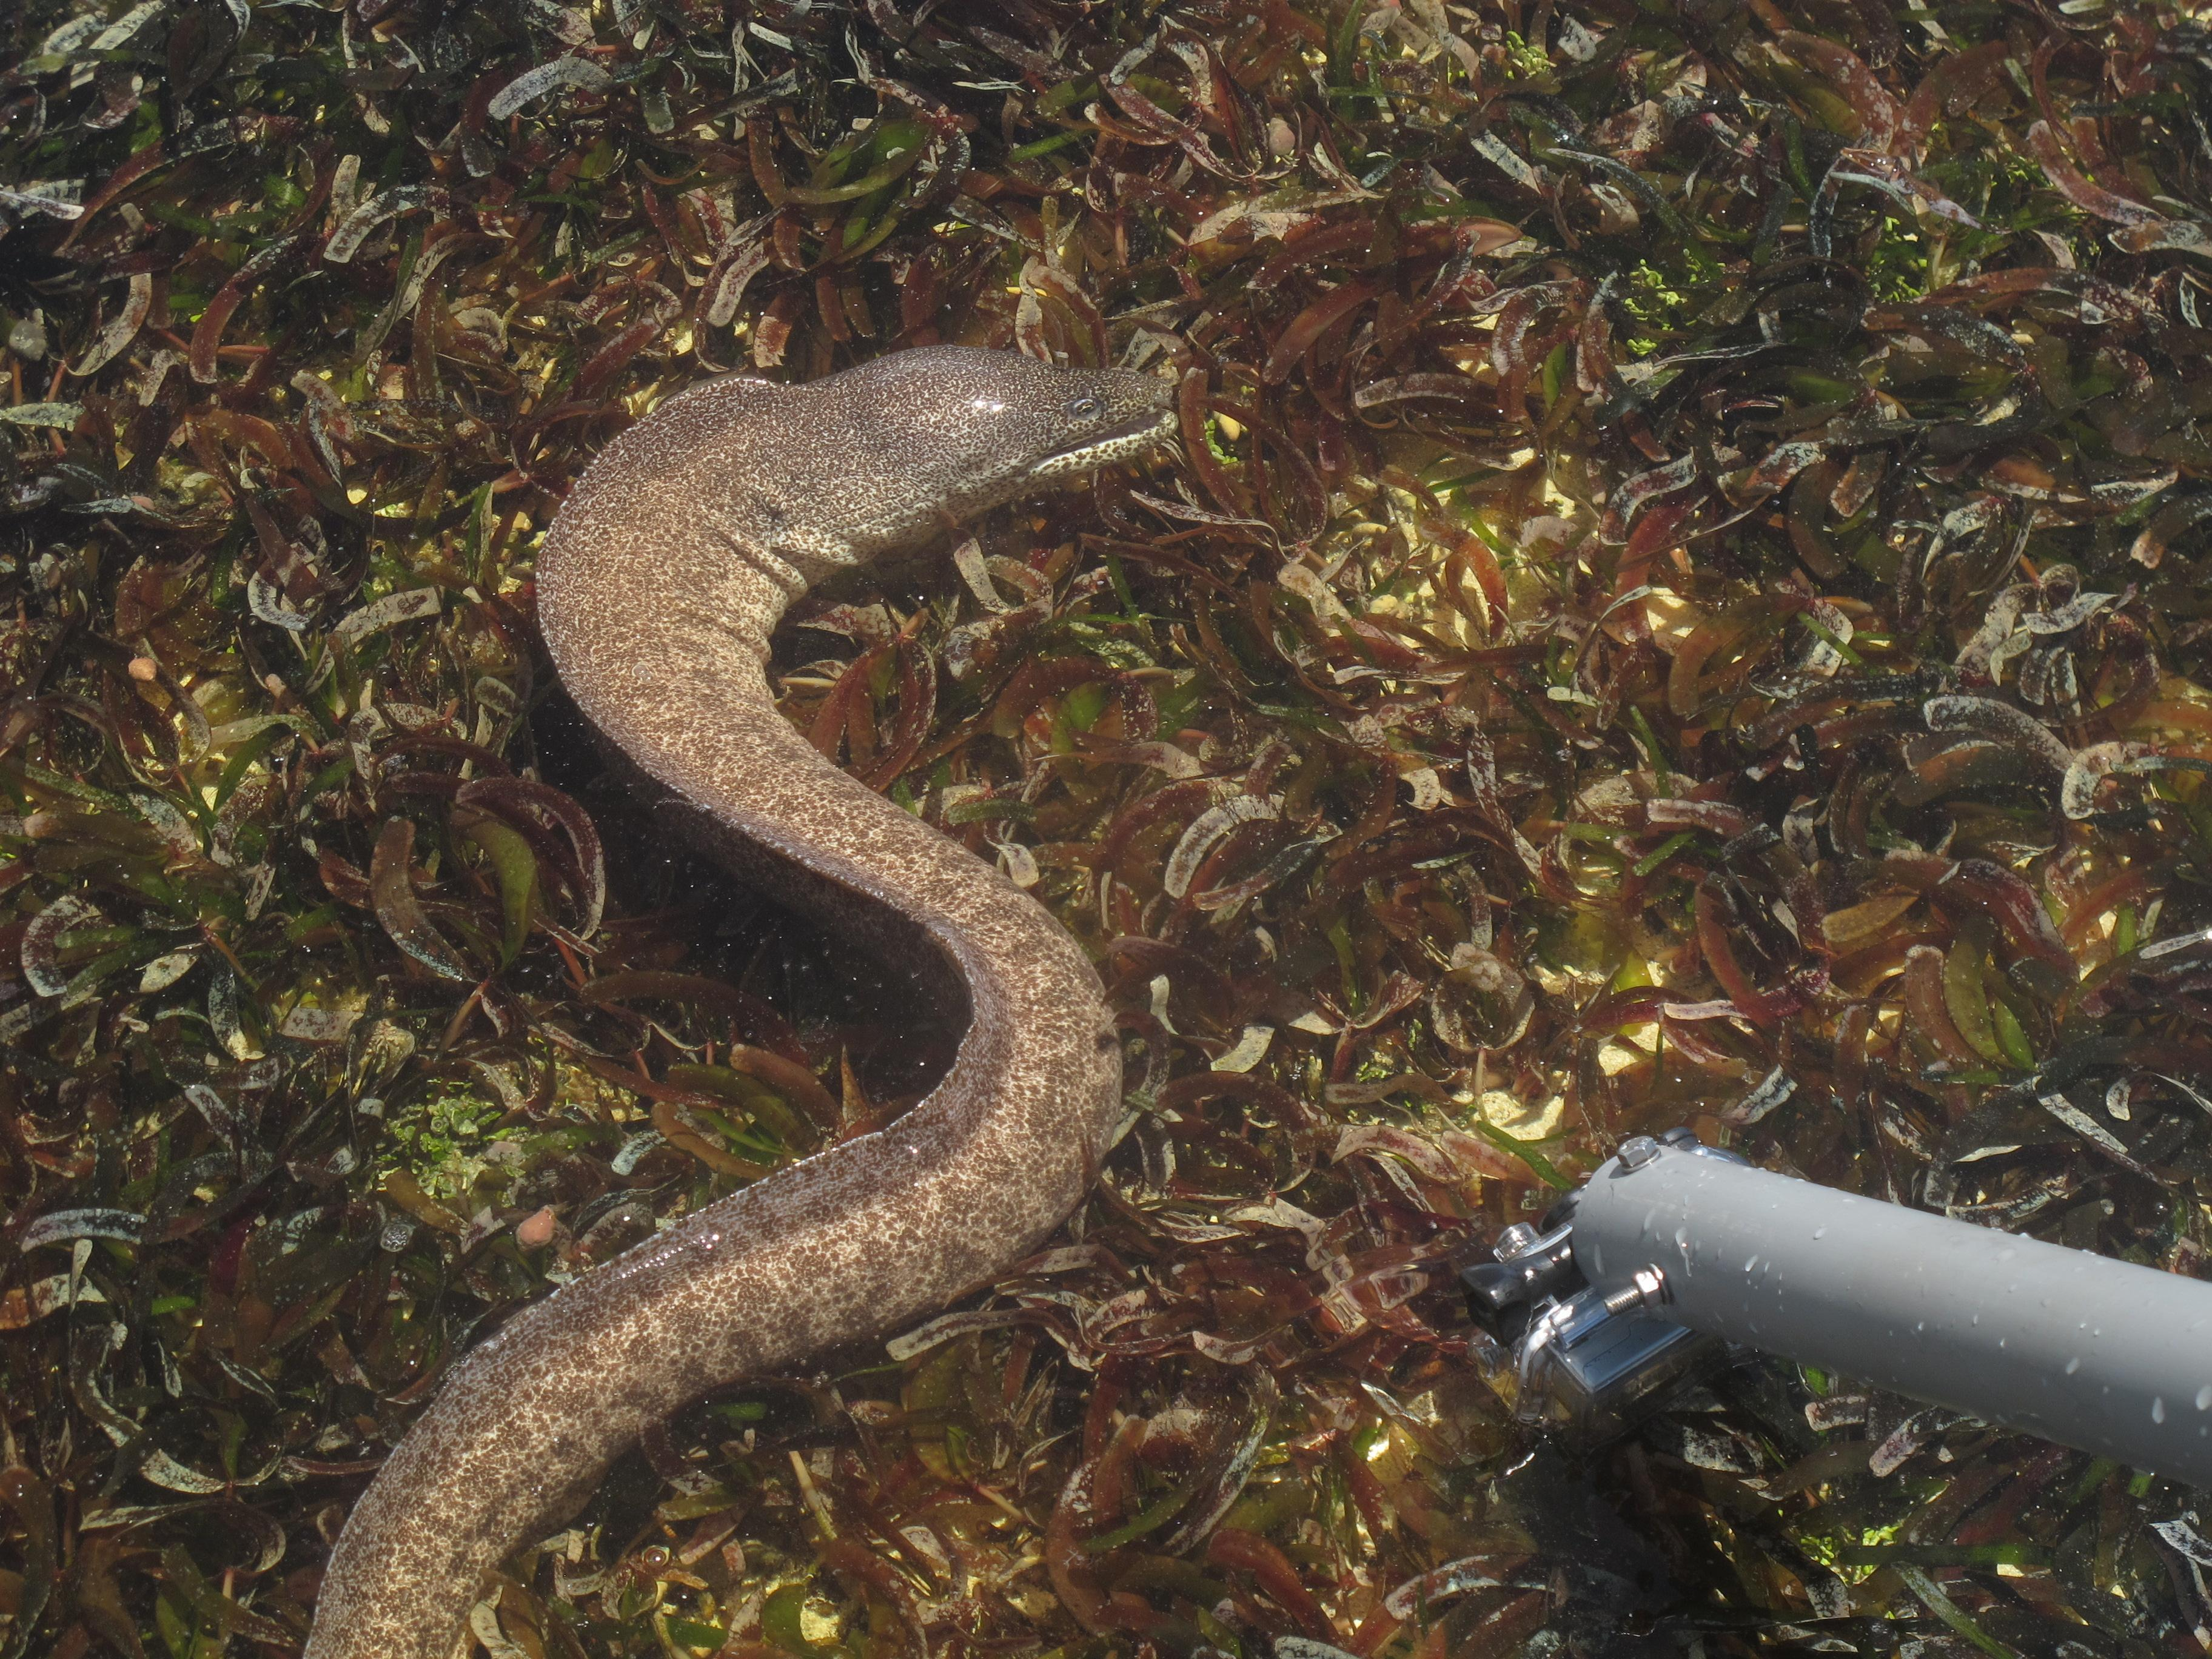Fish: (253, 315, 1198, 1659)
